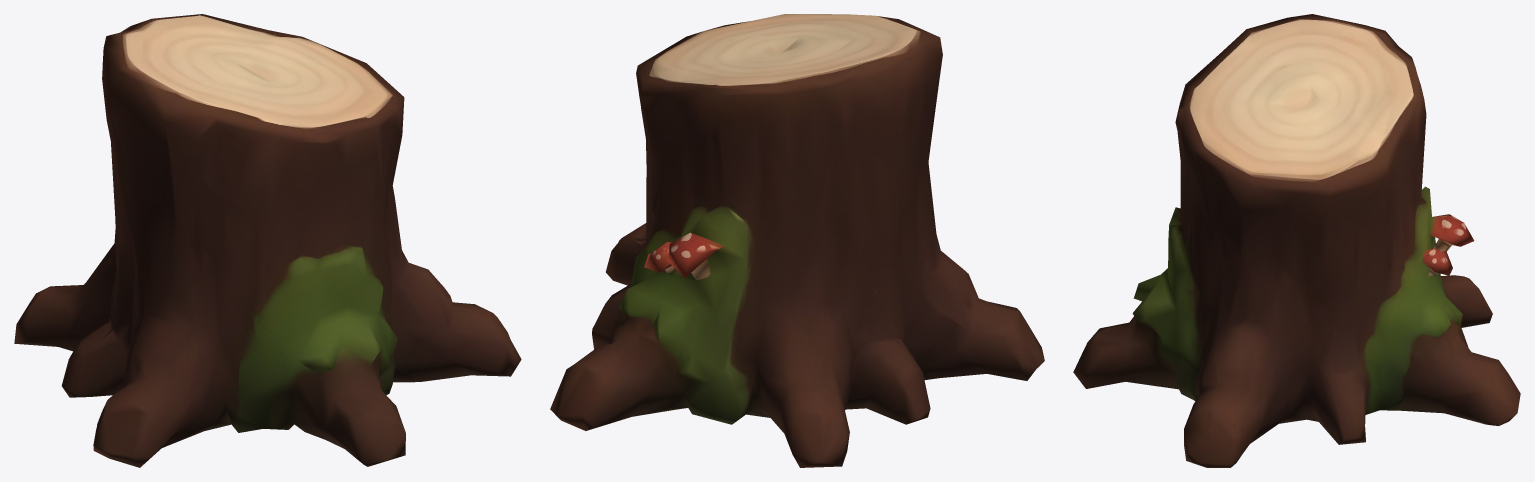
File: pro_stump-B60auECa.glb
3 renders of one model, left to right at view 1: azimuth 30°, elevation 25°; view 2: azimuth 150°, elevation 25°; view 3: azimuth 270°, elevation 25°, orthographic. The views are drawn at different scales.
Visible parts, largest first — view 1: tripo_node_6ec885c8-6544-4f33-aabf-c1592b8fca0f; view 2: tripo_node_6ec885c8-6544-4f33-aabf-c1592b8fca0f; view 3: tripo_node_6ec885c8-6544-4f33-aabf-c1592b8fca0f.
Boxes of the visible parts, x1,y1,x2,y2 form: tripo_node_6ec885c8-6544-4f33-aabf-c1592b8fca0f: (14, 14, 521, 467); tripo_node_6ec885c8-6544-4f33-aabf-c1592b8fca0f: (550, 14, 1044, 467); tripo_node_6ec885c8-6544-4f33-aabf-c1592b8fca0f: (1073, 14, 1520, 467).
Bounding box in the file's own units: 0.9772 × 0.7552 × 1.
1 material, 1 textured.
